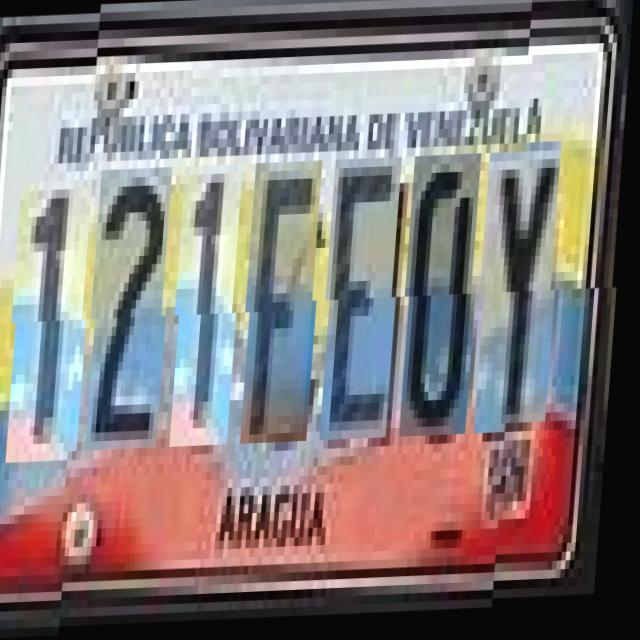0: (406, 157, 488, 440)
1: (13, 172, 100, 454), (176, 166, 250, 449)
2: (92, 168, 180, 452)
E: (326, 160, 408, 444)
F: (248, 164, 330, 446)
Y: (481, 155, 568, 438)
